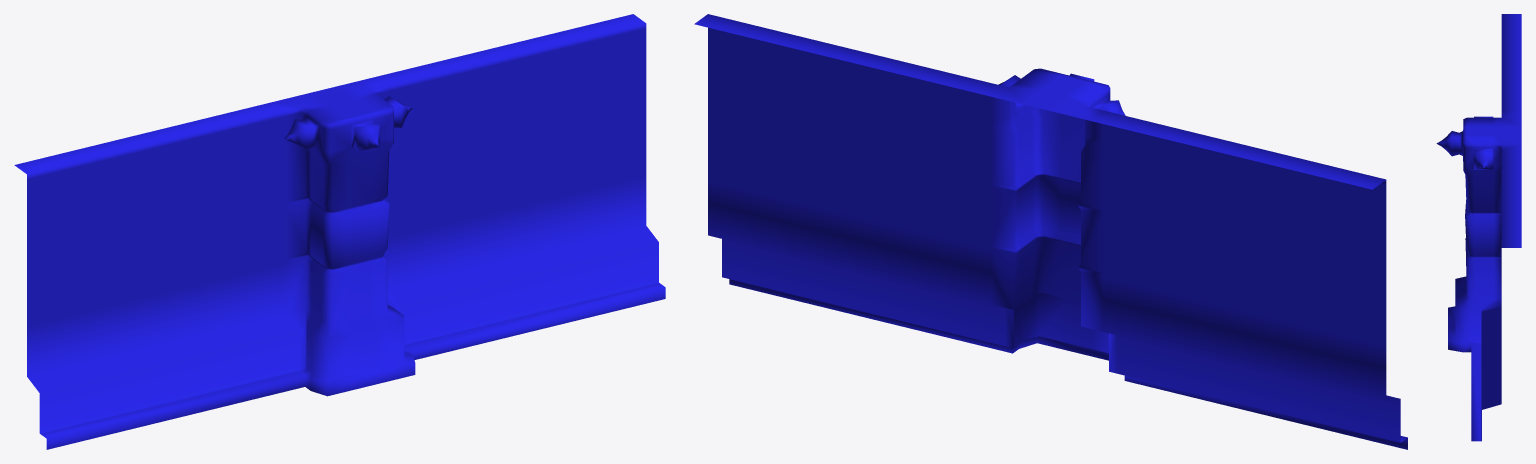
Rendered from S_Walls_i_low.fbx.
3 renders of one model, left to right at view 1: azimuth 30°, elevation 25°; view 2: azimuth 150°, elevation 25°; view 3: azimuth 270°, elevation 25°, orthographic. The views are drawn at different scales.
Parts seen in each view (by area): view 1: Wall_I_low; view 2: Wall_I_low; view 3: Wall_I_low.
Boxes of the visible parts, <box> form: Wall_I_low: <box>14,14,665,449</box>; Wall_I_low: <box>694,14,1407,449</box>; Wall_I_low: <box>1436,14,1521,441</box>.
Size of the model in its own units: 20 by 8.06 by 3.07.
